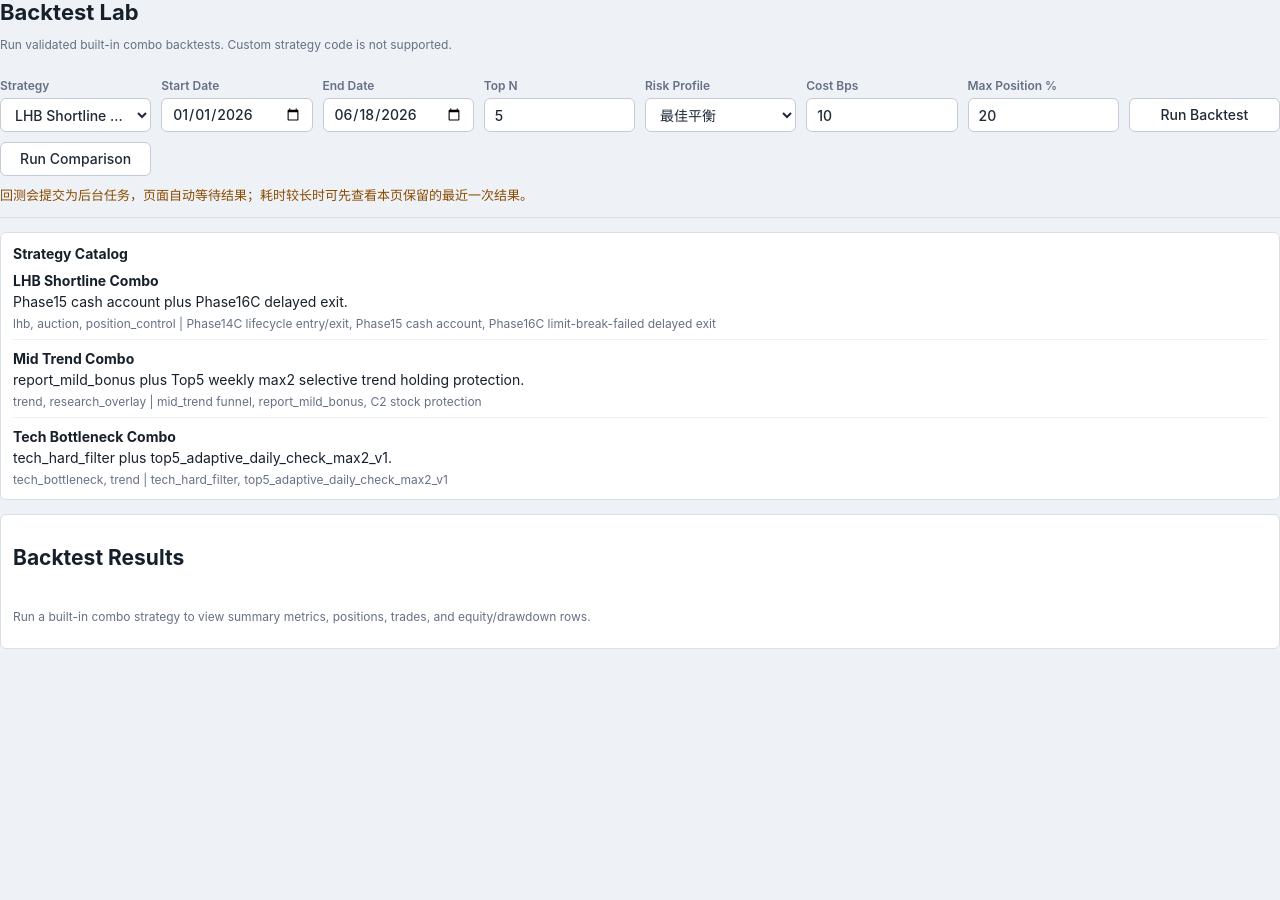
Test: BacktestLabWorkspace › renders backtest results after a run resolves
Click the button "Run Backtest" at {"x": 1204, "y": 115}, box [1129, 98, 1279, 132]
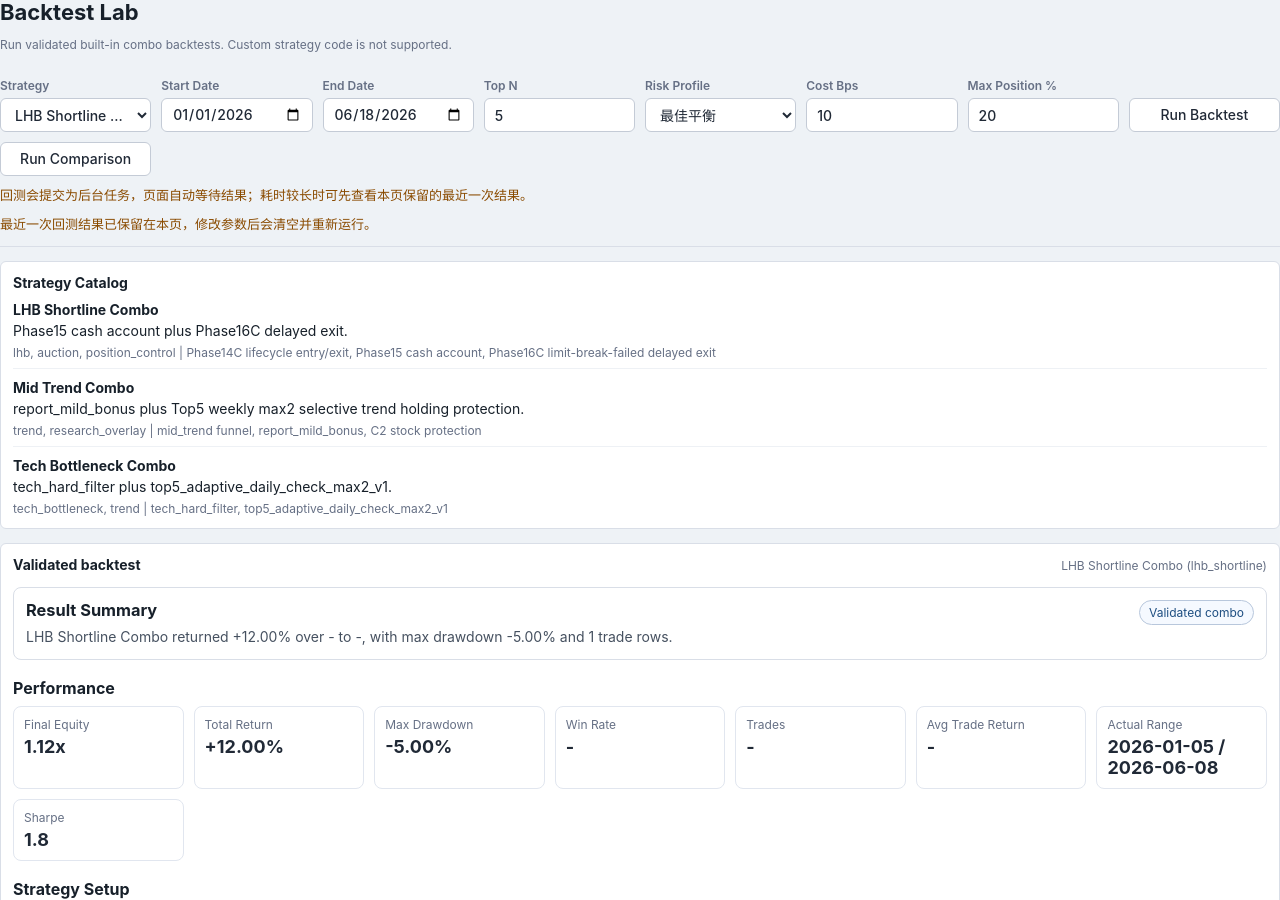
Now the heading "Validated backtest" is shown, box [13, 556, 140, 573]
Now the heading "Result Summary" is shown, box [26, 600, 157, 620]
Now the text "Validated combo" is shown, box [1139, 600, 1254, 625]
